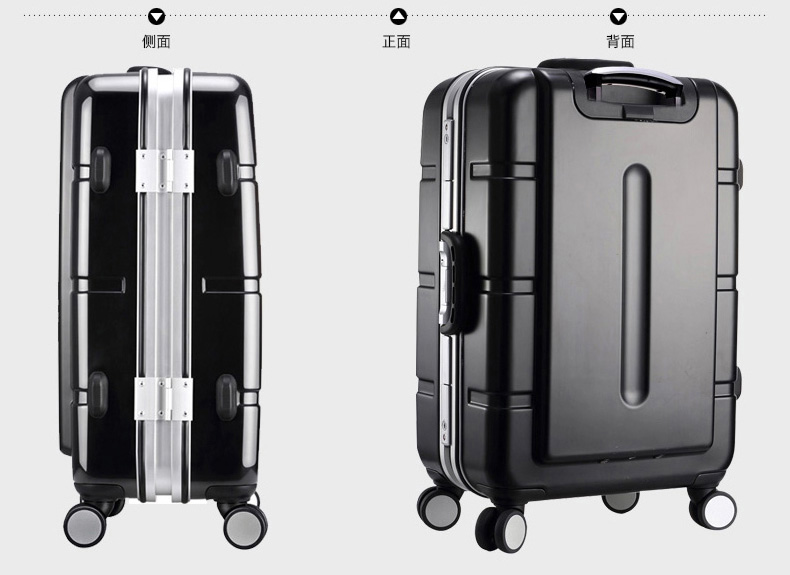luggage: (414, 57, 740, 553), (54, 65, 269, 550)
